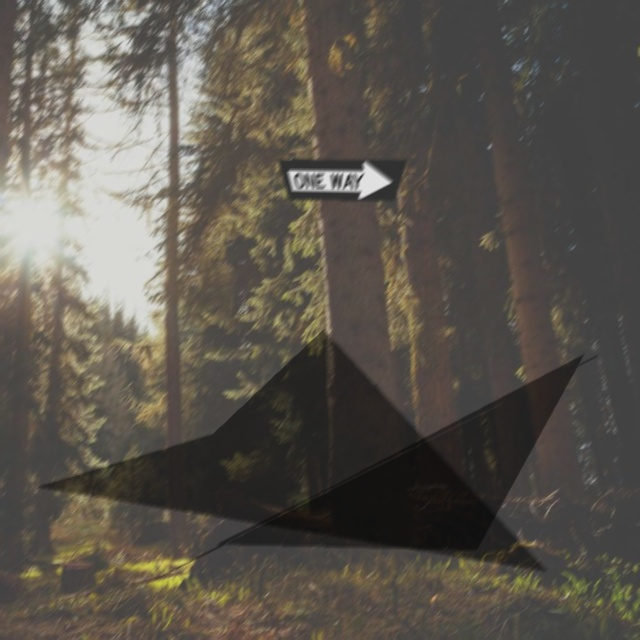ONE_WAY_ right: (276, 159, 406, 202)
